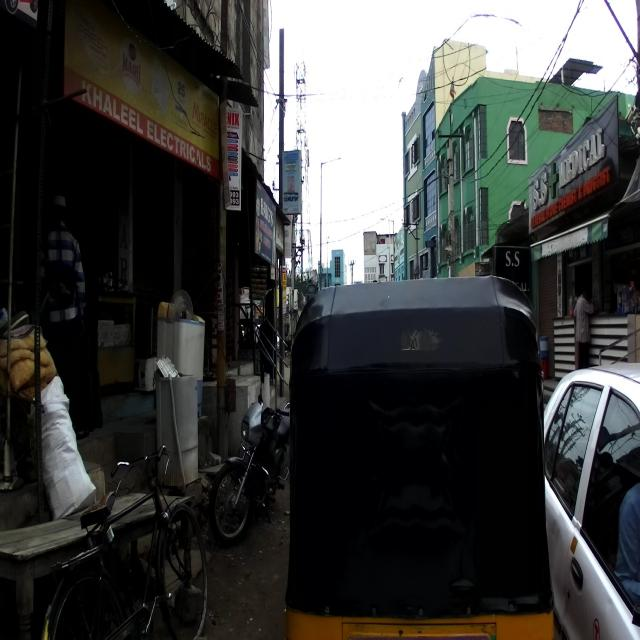Car_TATA: (541, 362, 639, 638)
autorickshaw: (286, 275, 553, 639)
motorcycle_Hero: (209, 371, 291, 553)
